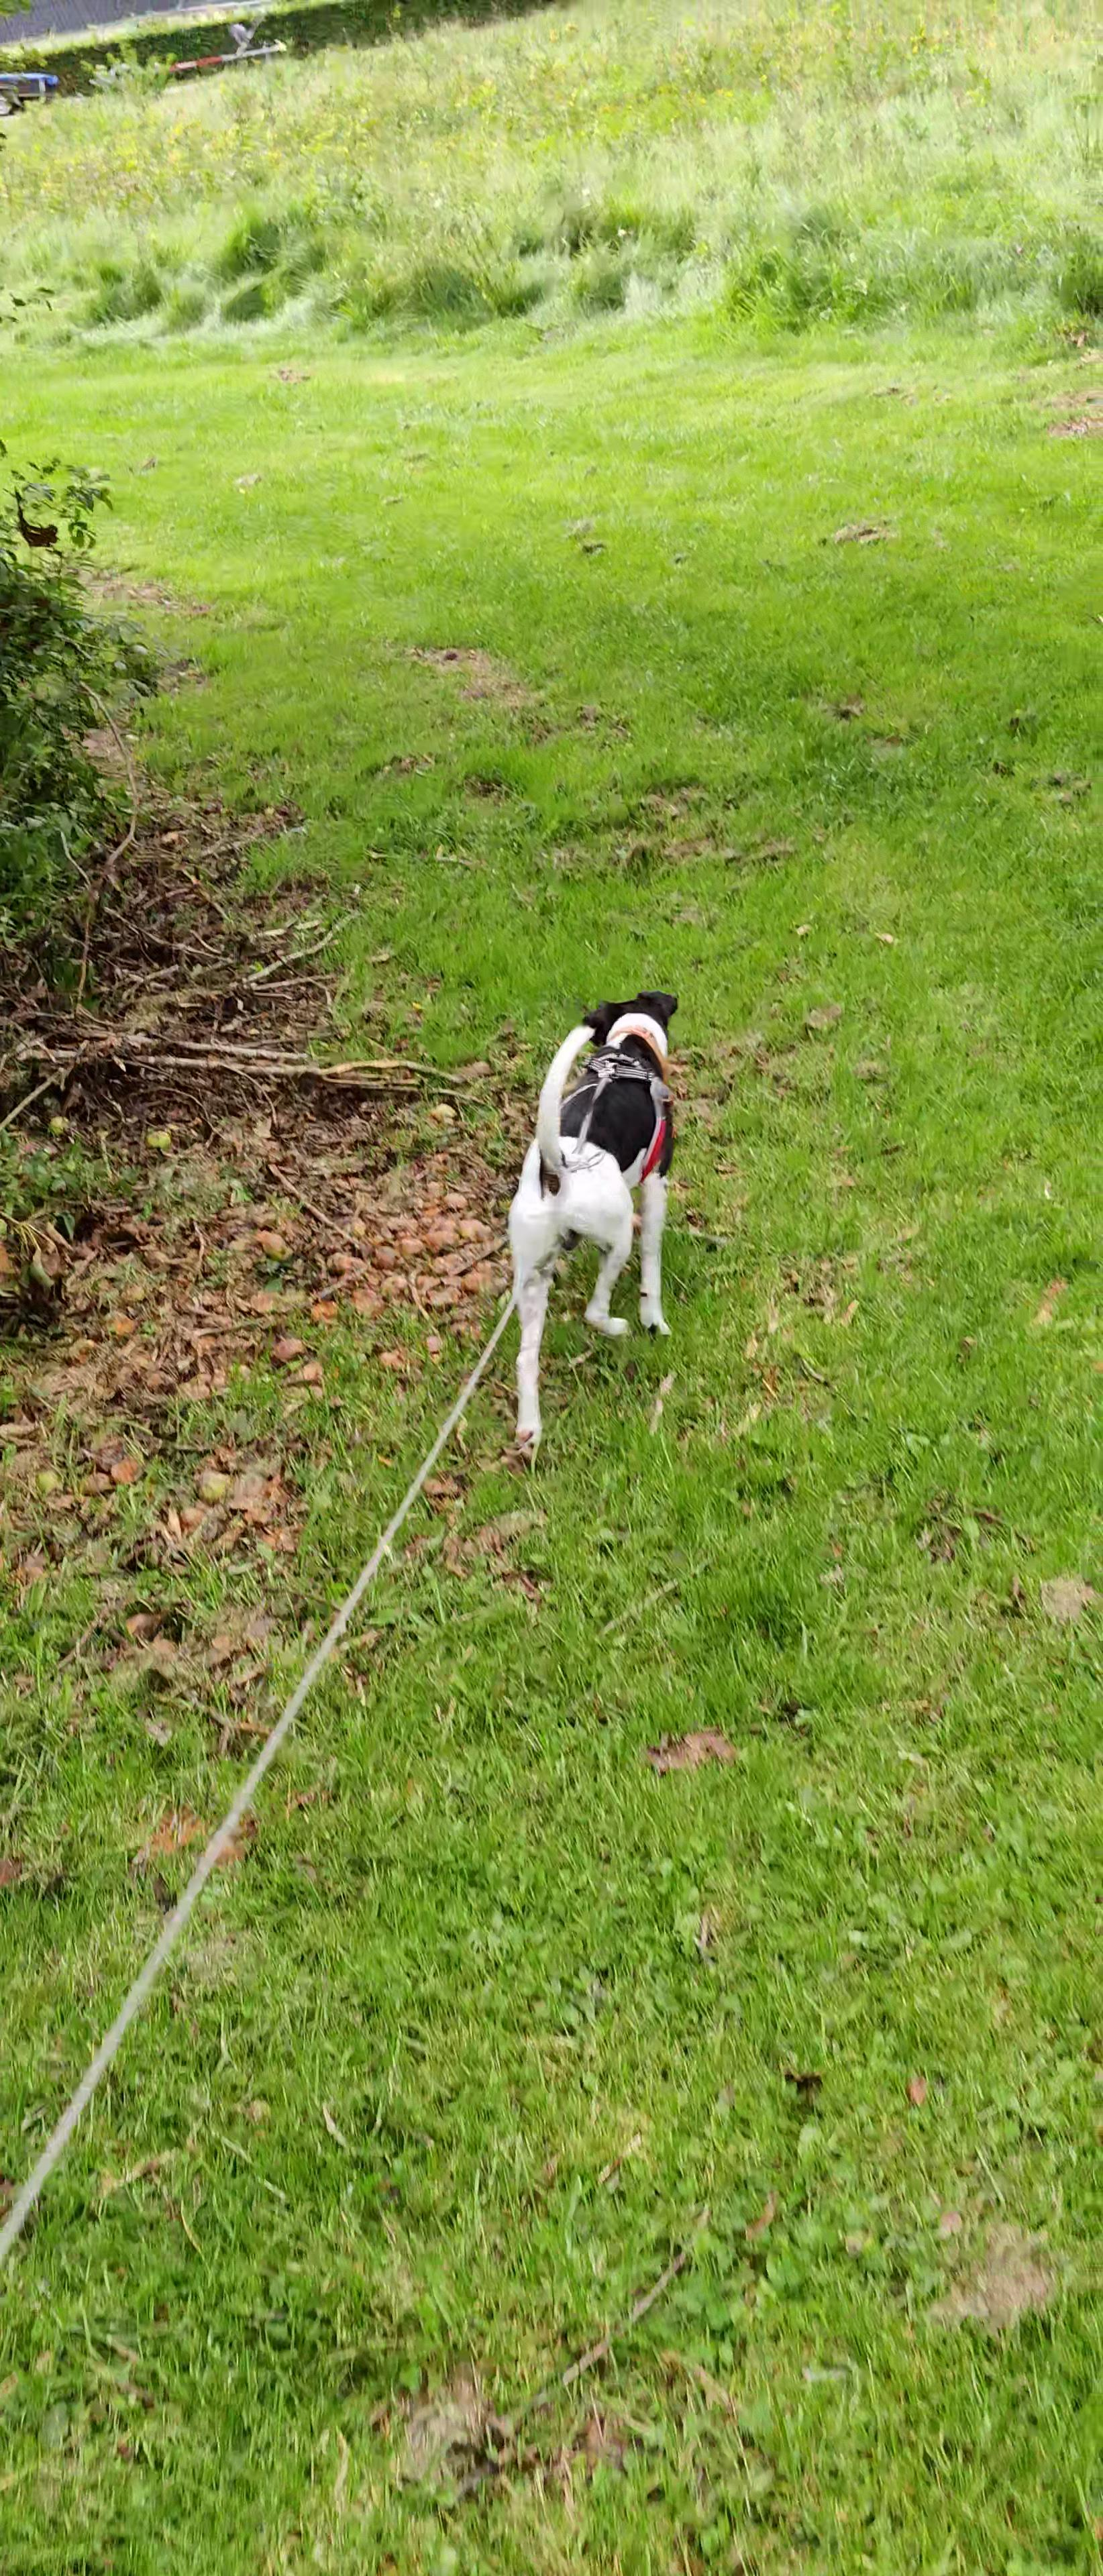Dog: (495, 984, 687, 1472)
